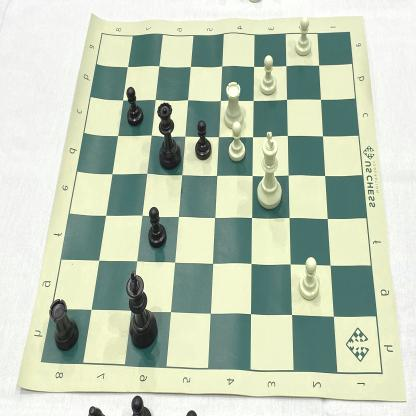black-king: (126, 268, 160, 354)
black-pawn: (146, 204, 168, 251), (193, 119, 212, 162), (126, 84, 144, 128)
black-queen: (156, 97, 182, 173)
black-rook: (48, 298, 80, 356)
white-king: (254, 129, 285, 213)
white-pawn: (298, 256, 322, 304), (228, 119, 250, 164), (258, 52, 280, 97), (293, 15, 315, 59)
white-rook: (221, 79, 245, 132)
